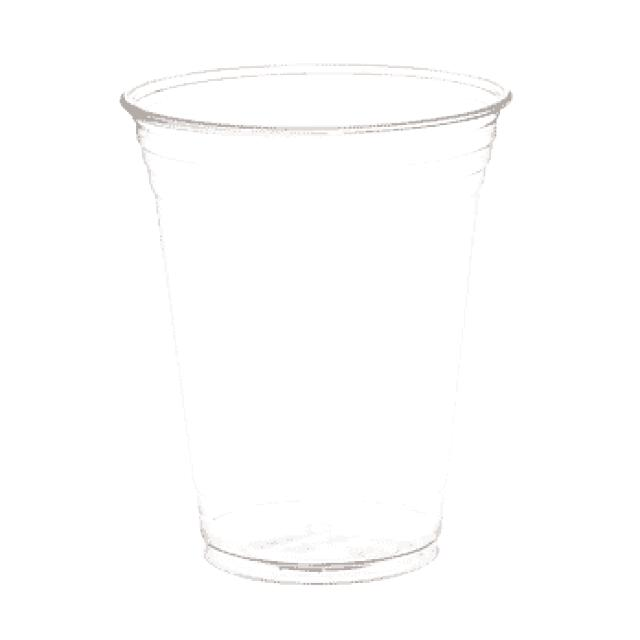Gelas: (109, 48, 522, 592)
